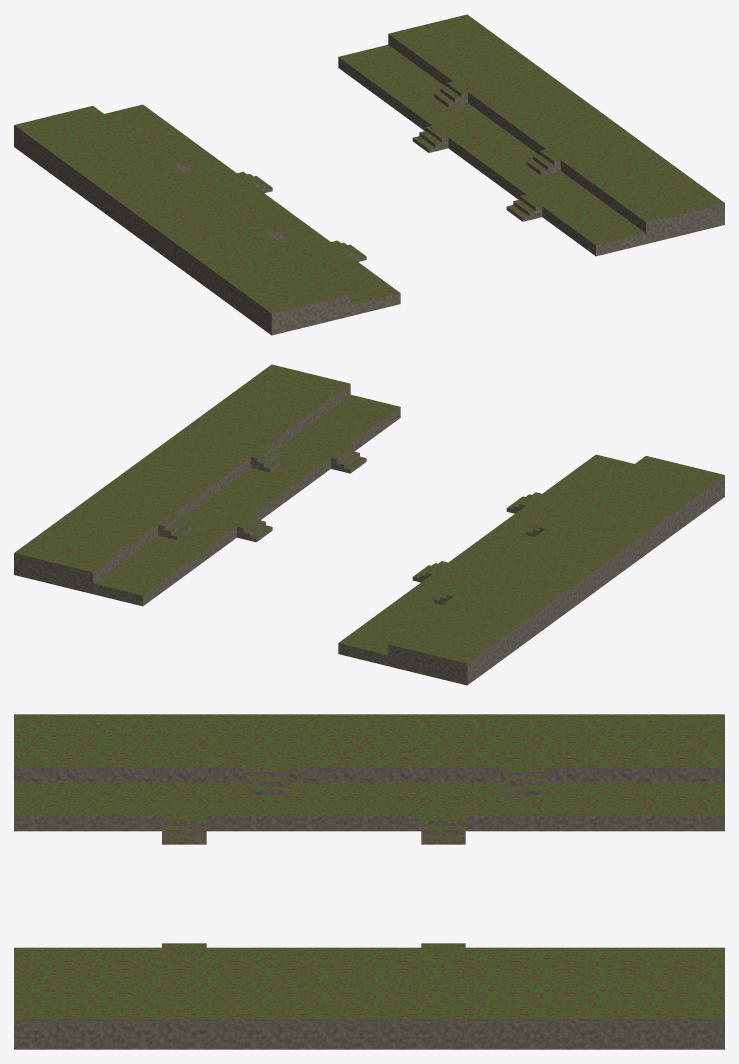
Rendered from terrazas.obj.
The picture shows the model from 3 angles, top to bottom: view 1: azimuth 30°, elevation 25°; view 2: azimuth 150°, elevation 25°; view 3: azimuth 270°, elevation 25°; orthographic projection. The views are drawn at different scales.
Parts seen in each view (by area): view 1: Terrazas; view 2: Terrazas; view 3: Terrazas.
Part boxes in pixels (left/top/right/bottom): Terrazas: left=14, top=14, right=724, bottom=335; Terrazas: left=14, top=364, right=724, bottom=685; Terrazas: left=14, top=714, right=724, bottom=1049.
Size of the model in its own units: 19.5 by 0.9 by 19.2.
2 materials, 2 textured.
